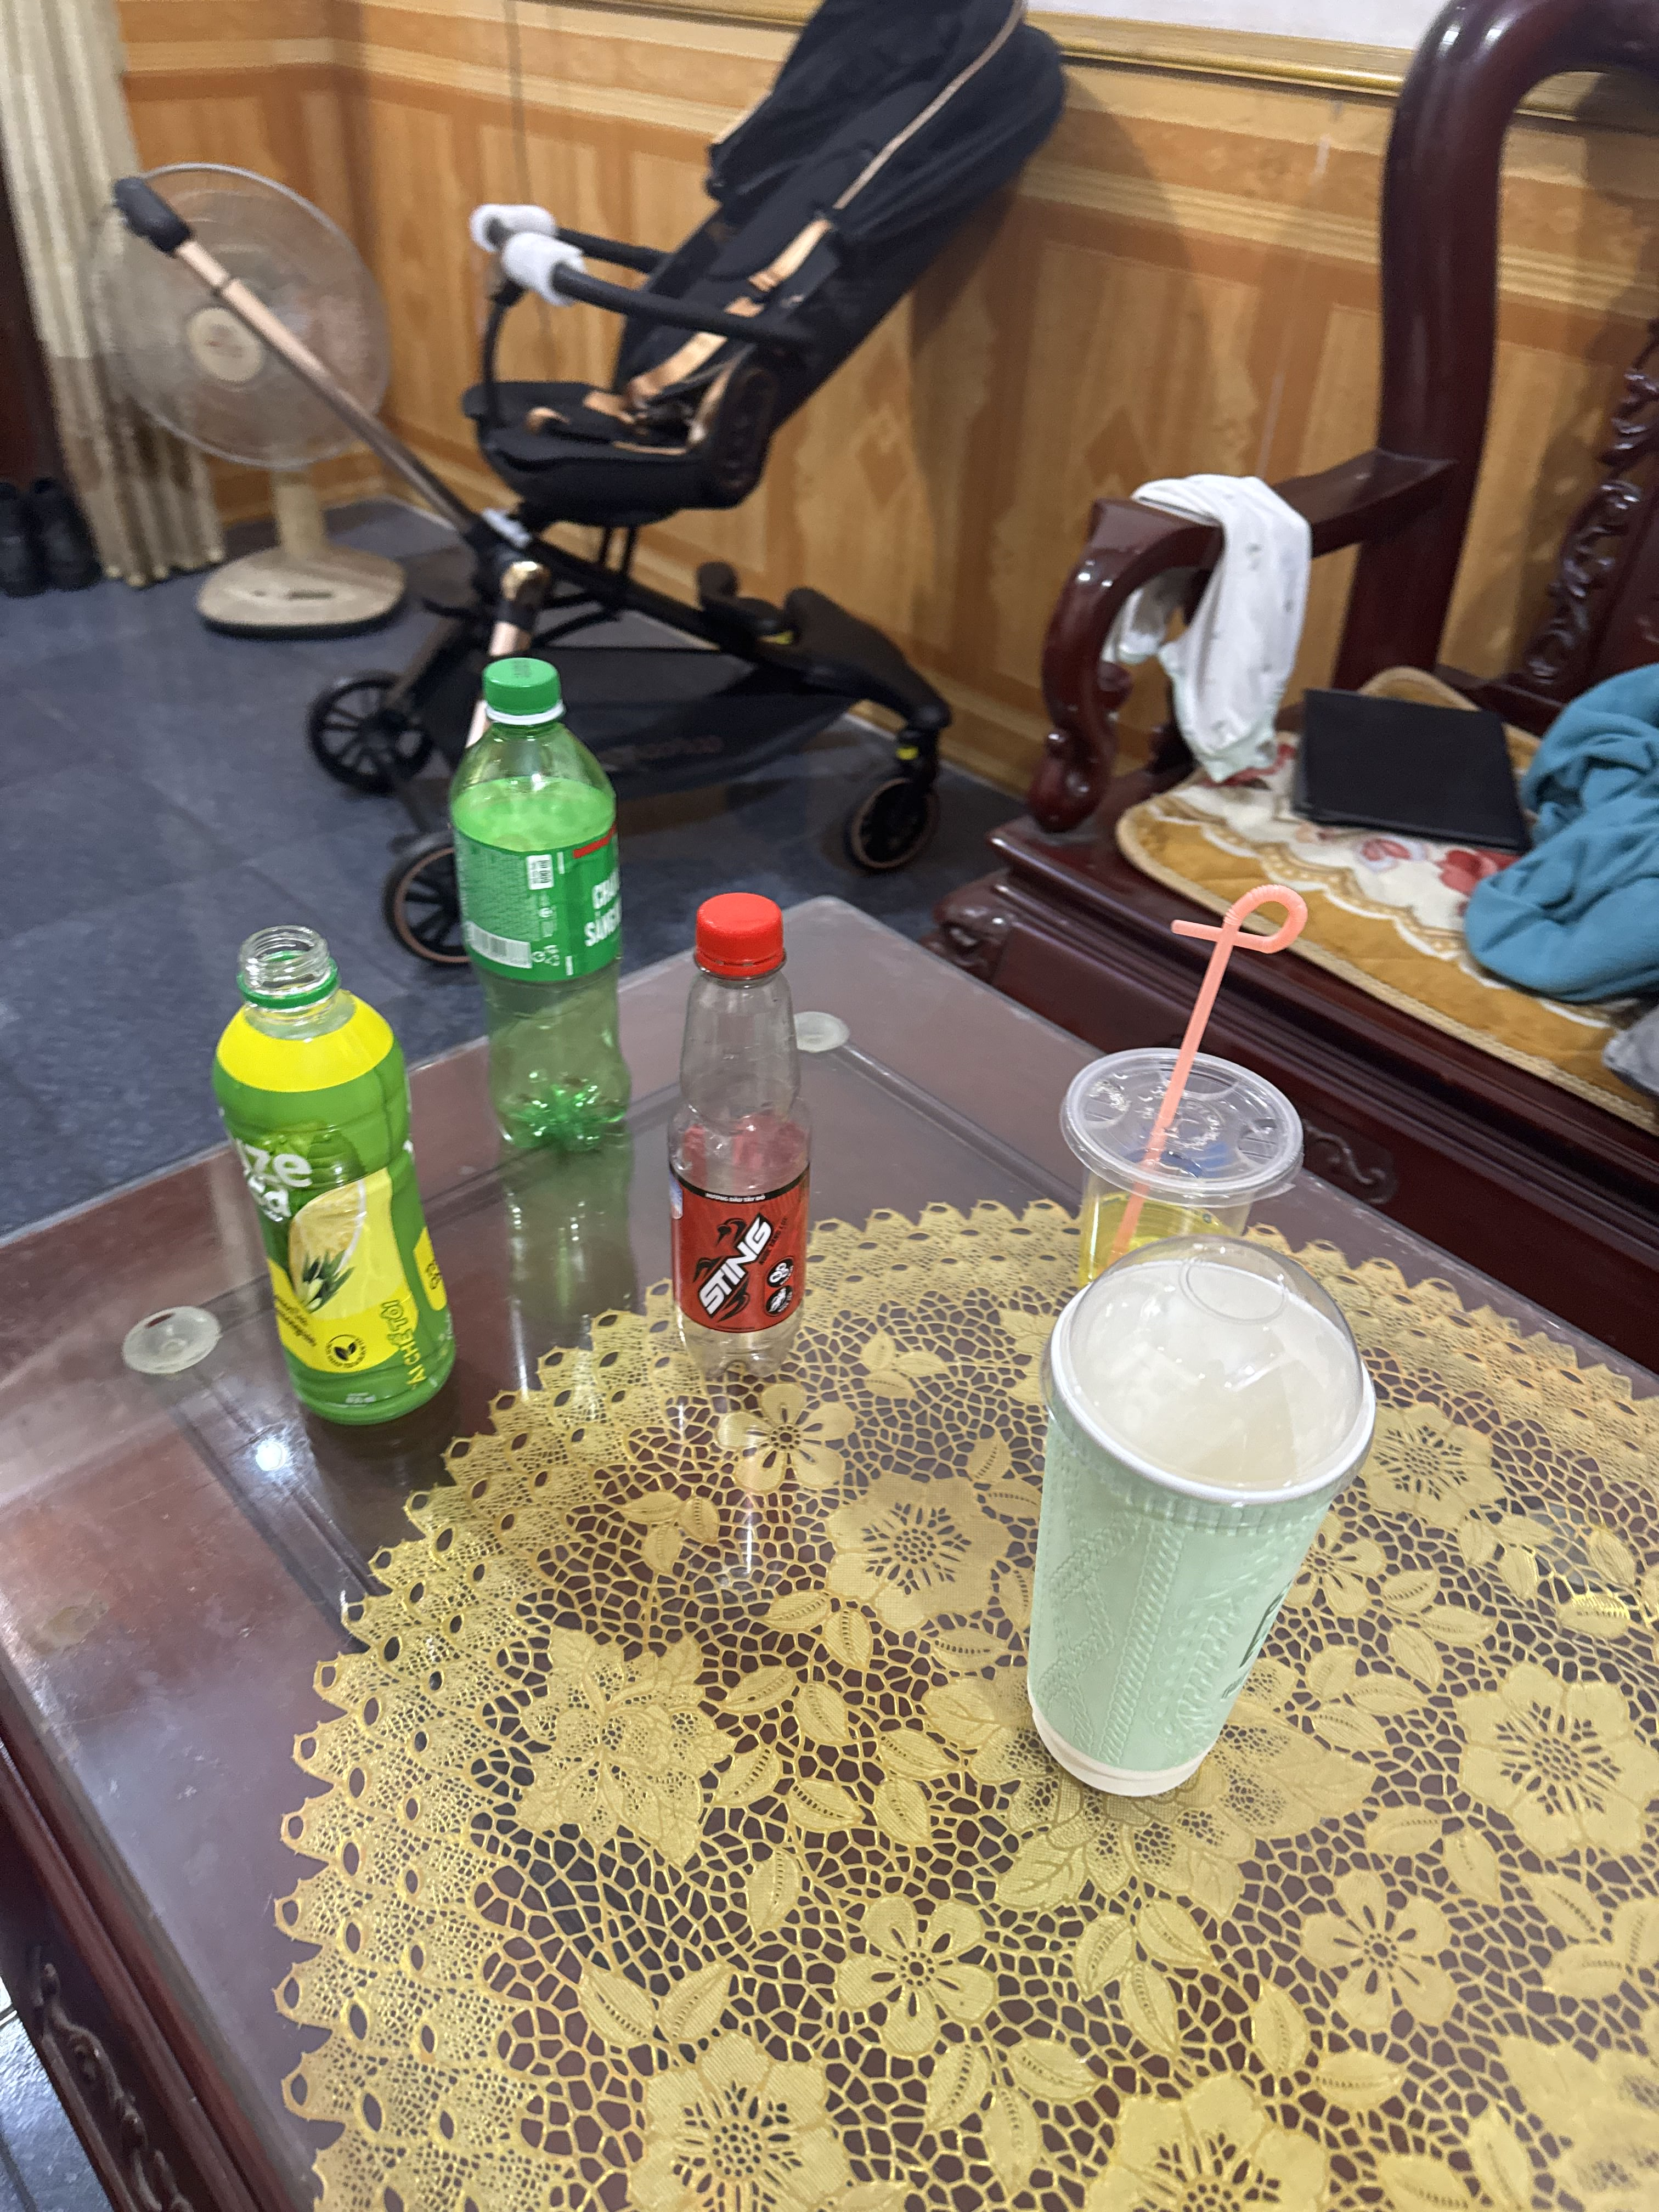2: (997, 1230, 1368, 1838), (1044, 1015, 1316, 1308)
bottle: (192, 906, 502, 1446), (436, 644, 669, 1176), (629, 881, 835, 1400)
